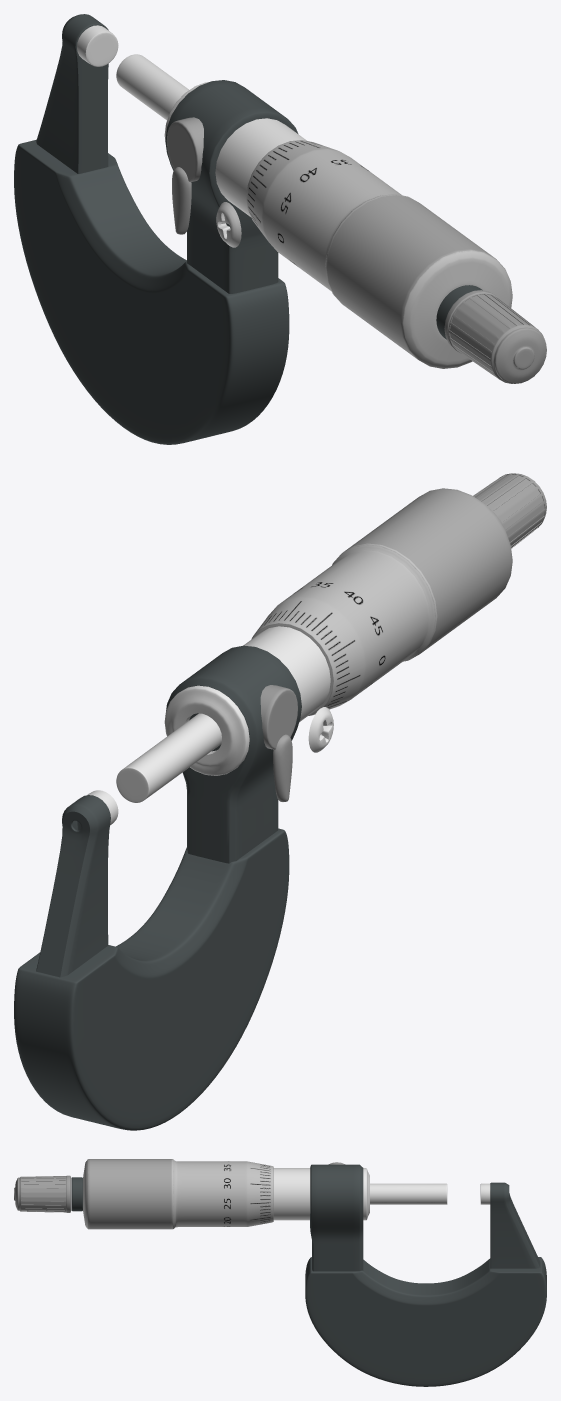
Rendered from Mikrometer skrup.fbx.
3 views of the same model, one above another, from view 1: azimuth 30°, elevation 25°; view 2: azimuth 150°, elevation 25°; view 3: azimuth 270°, elevation 25° (orthographic). The views are drawn at different scales.
Parts seen in each view (by area): view 1: 9_Legacy_0_0, 2_Legacy_2_0, 3_Legacy_6_0, 3_Legacy_3_0, lock, 3_Legacy_3_0.001, 4_Legacy_4_0_0, spindle.002, spindle, spindle.001; view 2: 9_Legacy_0_0, 2_Legacy_2_0, 3_Legacy_3_0, 3_Legacy_6_0, 4_Legacy_4_0_0, lock, spindle.002, spindle.001; view 3: 9_Legacy_0_0, 2_Legacy_2_0, 3_Legacy_3_0, 3_Legacy_6_0, 4_Legacy_4_0_0, lock, spindle.002, 3_Legacy_3_0.001.
Boxes of the visible parts, left/top/right/bottom form: 9_Legacy_0_0: left=14, top=139, right=289, bottom=444; 2_Legacy_2_0: left=36, top=14, right=482, bottom=339; 3_Legacy_6_0: left=327, top=195, right=495, bottom=359; 3_Legacy_3_0: left=246, top=140, right=418, bottom=304; lock: left=166, top=117, right=546, bottom=383; 3_Legacy_3_0.001: left=402, top=250, right=512, bottom=368; 4_Legacy_4_0_0: left=164, top=82, right=306, bottom=216; spindle.002: left=116, top=54, right=188, bottom=120; spindle: left=77, top=25, right=118, bottom=66; spindle.001: left=216, top=202, right=241, bottom=247; 9_Legacy_0_0: left=14, top=828, right=289, bottom=1130; 2_Legacy_2_0: left=36, top=645, right=301, bottom=977; 3_Legacy_3_0: left=251, top=543, right=437, bottom=715; 3_Legacy_6_0: left=344, top=488, right=512, bottom=652; 4_Legacy_4_0_0: left=164, top=626, right=330, bottom=775; lock: left=260, top=473, right=546, bottom=801; spindle.002: left=116, top=713, right=221, bottom=802; spindle.001: left=308, top=707, right=333, bottom=752; 9_Legacy_0_0: left=305, top=1257, right=546, bottom=1386; 2_Legacy_2_0: left=71, top=1164, right=540, bottom=1271; 3_Legacy_3_0: left=171, top=1159, right=273, bottom=1229; 3_Legacy_6_0: left=88, top=1159, right=171, bottom=1229; 4_Legacy_4_0_0: left=273, top=1168, right=369, bottom=1220; lock: left=14, top=1162, right=345, bottom=1212; spindle.002: left=370, top=1183, right=447, bottom=1204; 3_Legacy_3_0.001: left=83, top=1159, right=88, bottom=1228.
Bounding box in the file's own units: 0.0121 × 0.0407 × 0.0905.
Materials: 6 (1 with a texture image).
